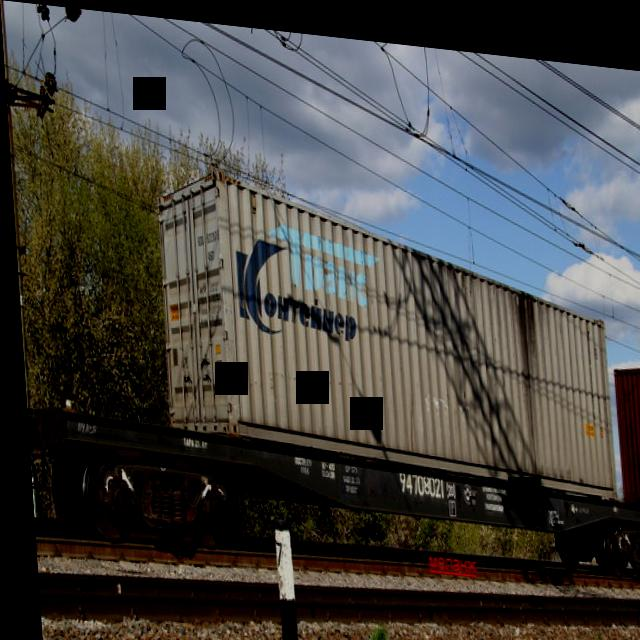container: (148, 149, 617, 492), (21, 392, 640, 579), (608, 336, 640, 499)
